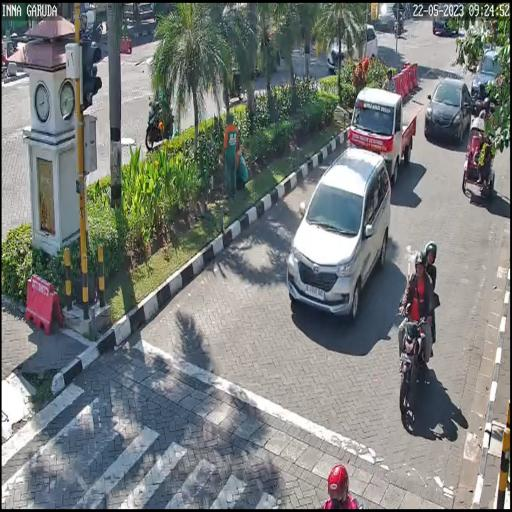mobil: (285, 155, 394, 324), (346, 80, 416, 180), (426, 67, 472, 150)
motor: (394, 302, 439, 430)
